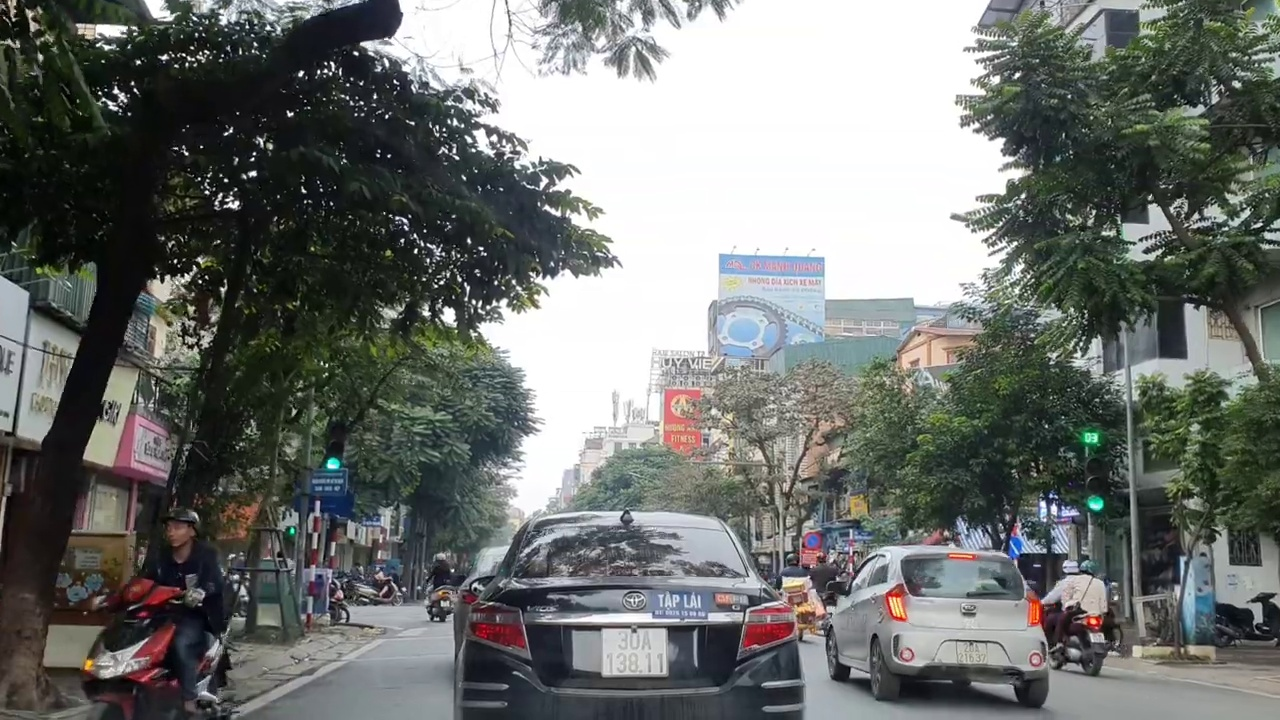vehicle-plate: (954, 639, 990, 666), (1087, 630, 1106, 645)
